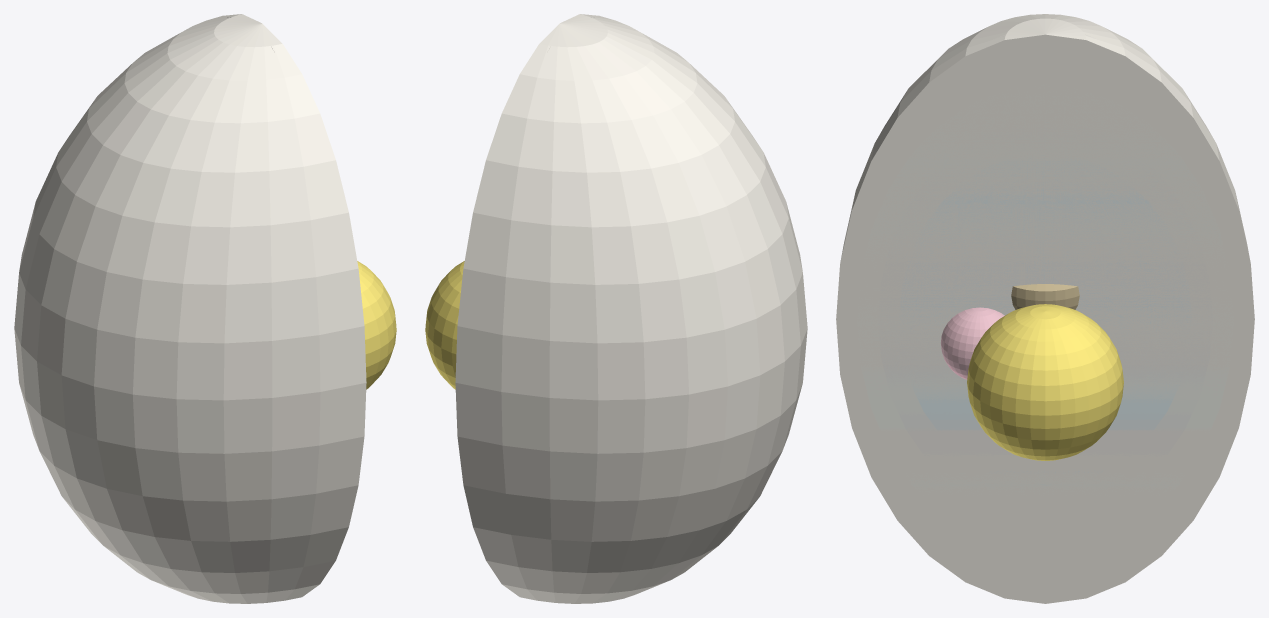
3 renders of one model, left to right at view 1: azimuth 30°, elevation 25°; view 2: azimuth 150°, elevation 25°; view 3: azimuth 270°, elevation 25°, orthographic.
Parts seen in each view (by area): view 1: Outer_Shell, Yolk_Sac; view 2: Outer_Shell, Yolk_Sac; view 3: Outer_Shell, Albumen, Chorion, Yolk_Sac, Amnion, Allantois, Embryo.
Part boxes in pixels (box(x1,y1,x2,y2)): Outer_Shell: box(14, 14, 366, 603); Yolk_Sac: box(357, 261, 396, 389); Outer_Shell: box(455, 14, 807, 603); Yolk_Sac: box(425, 261, 464, 389); Outer_Shell: box(836, 14, 1254, 603); Albumen: box(857, 84, 1233, 496); Chorion: box(879, 128, 1212, 457); Yolk_Sac: box(967, 304, 1123, 460); Amnion: box(900, 158, 1190, 484); Allantois: box(941, 307, 1004, 379); Embryo: box(1011, 284, 1079, 309).
Bounding box in the file's own units: 3.1 × 4.8 × 3.2.
